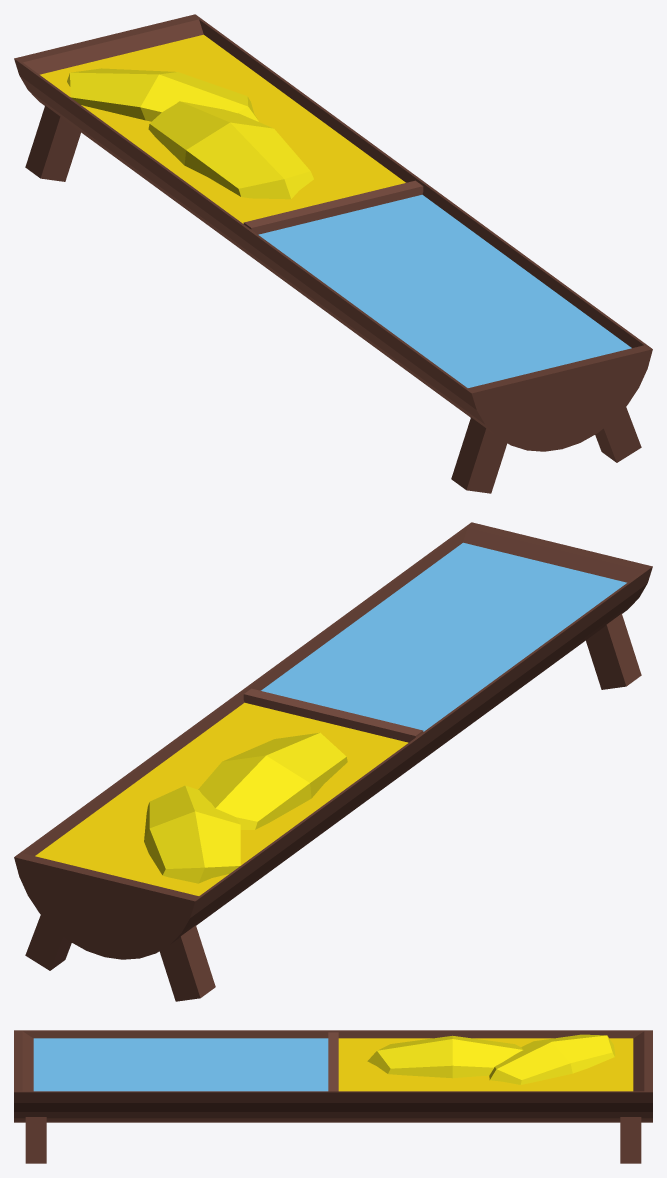
File: voederbak.fbx
3 renders of one model, top to bottom at view 1: azimuth 30°, elevation 25°; view 2: azimuth 150°, elevation 25°; view 3: azimuth 270°, elevation 25°, orthographic. The views are drawn at different scales.
Parts seen in each view (by area): view 1: Cylinder, Plane.002, Plane.001, Cube, Cube.001, Cube.003, Cube.002, Cube.005; view 2: Cylinder, Plane.002, Plane.001, Cube, Cube.001, Cube.002, Cube.003, Cube.004; view 3: Cylinder, Plane.002, Cube, Plane.001, Cube.004, Cube.005, Cube.001.
Part boxes in pixels (<box>): Cylinder: <box>14,14,652,451</box>; Plane.002: <box>258,194,631,387</box>; Plane.001: <box>40,34,405,223</box>; Cube: <box>67,68,313,199</box>; Cube.001: <box>243,180,423,234</box>; Cube.003: <box>451,417,507,493</box>; Cube.002: <box>25,105,80,181</box>; Cube.005: <box>595,407,641,462</box>; Cylinder: <box>14,522,652,959</box>; Plane.002: <box>261,542,626,731</box>; Plane.001: <box>35,702,408,895</box>; Cube: <box>144,732,347,883</box>; Cube.001: <box>243,688,423,742</box>; Cube.002: <box>159,925,215,1001</box>; Cube.003: <box>586,613,641,689</box>; Cube.004: <box>25,915,71,970</box>; Cylinder: <box>14,1030,652,1122</box>; Plane.002: <box>33,1038,328,1091</box>; Cube: <box>367,1034,615,1084</box>; Plane.001: <box>338,1038,633,1091</box>; Cube.004: <box>620,1117,641,1163</box>; Cube.005: <box>25,1117,46,1163</box>; Cube.001: <box>328,1032,338,1091</box>.
Size of the model in its own units: 137 by 98.61 by 600.
